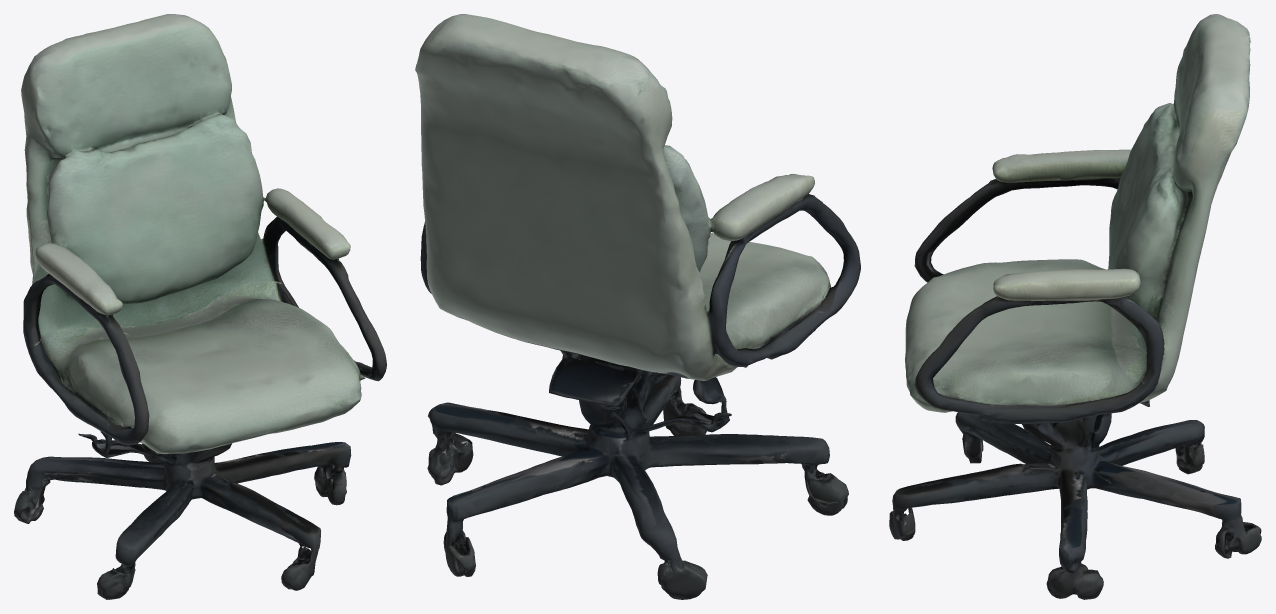
3 views of the same model, side by side, from view 1: azimuth 30°, elevation 25°; view 2: azimuth 150°, elevation 25°; view 3: azimuth 270°, elevation 25° (orthographic). The views are drawn at different scales.
Bounding box in the file's own units: 1.39 × 2 × 1.42.
1 material, 1 textured.
